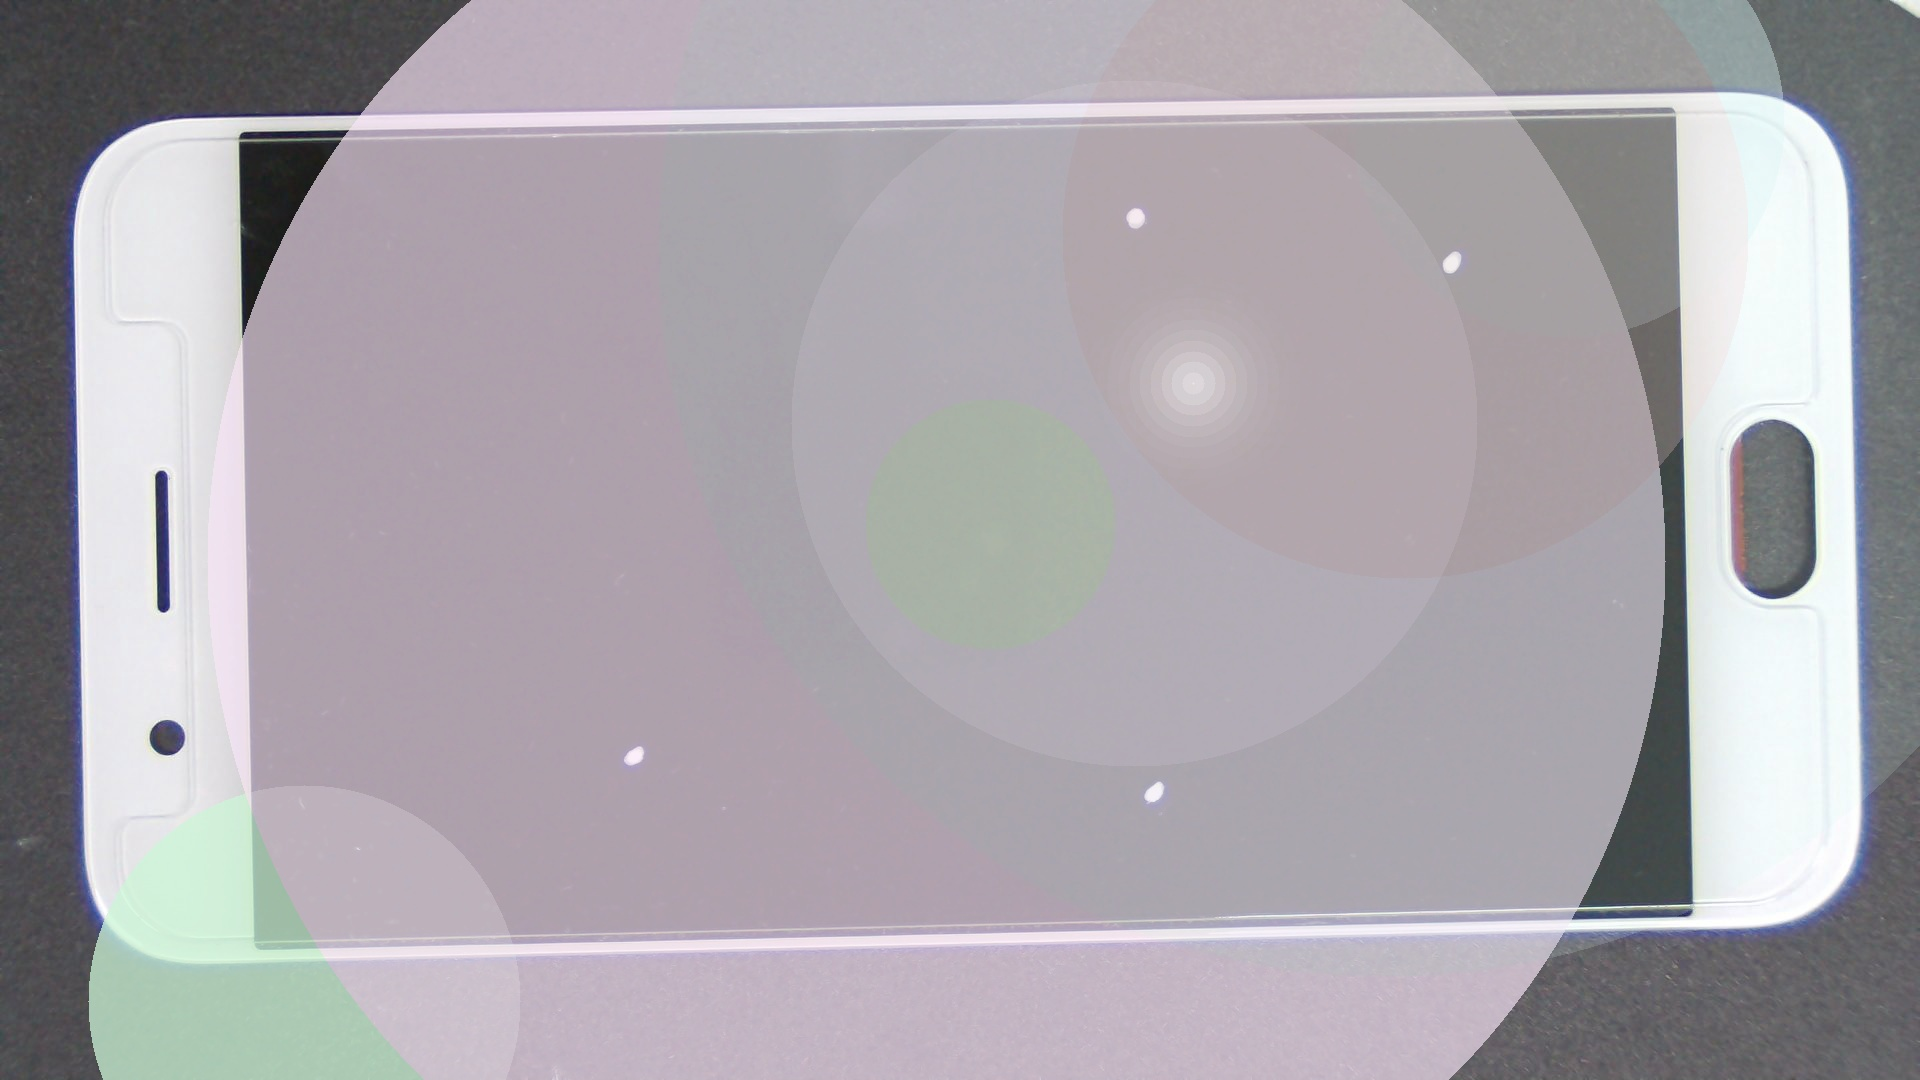oil: (580, 389, 1739, 1080), (319, 372, 955, 1080), (729, 124, 1920, 375), (567, 103, 1701, 310)
